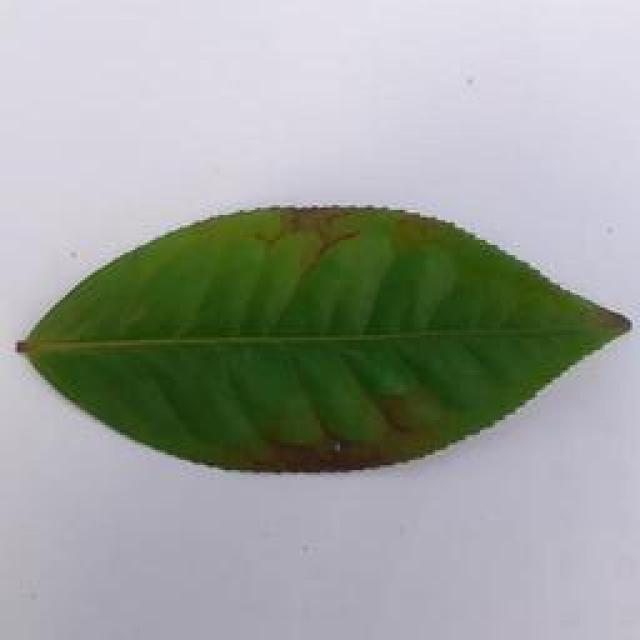Red Leaf Spot: (15, 180, 640, 480)
